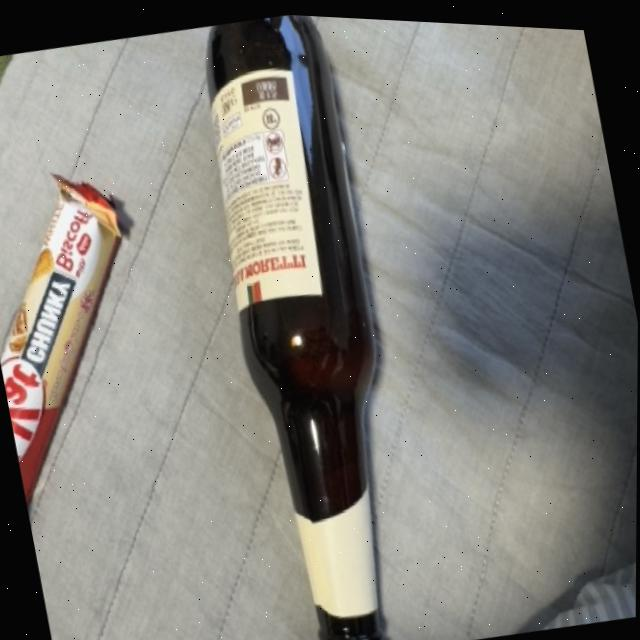beer: (169, 7, 448, 640)
chocolate: (0, 150, 198, 579)
